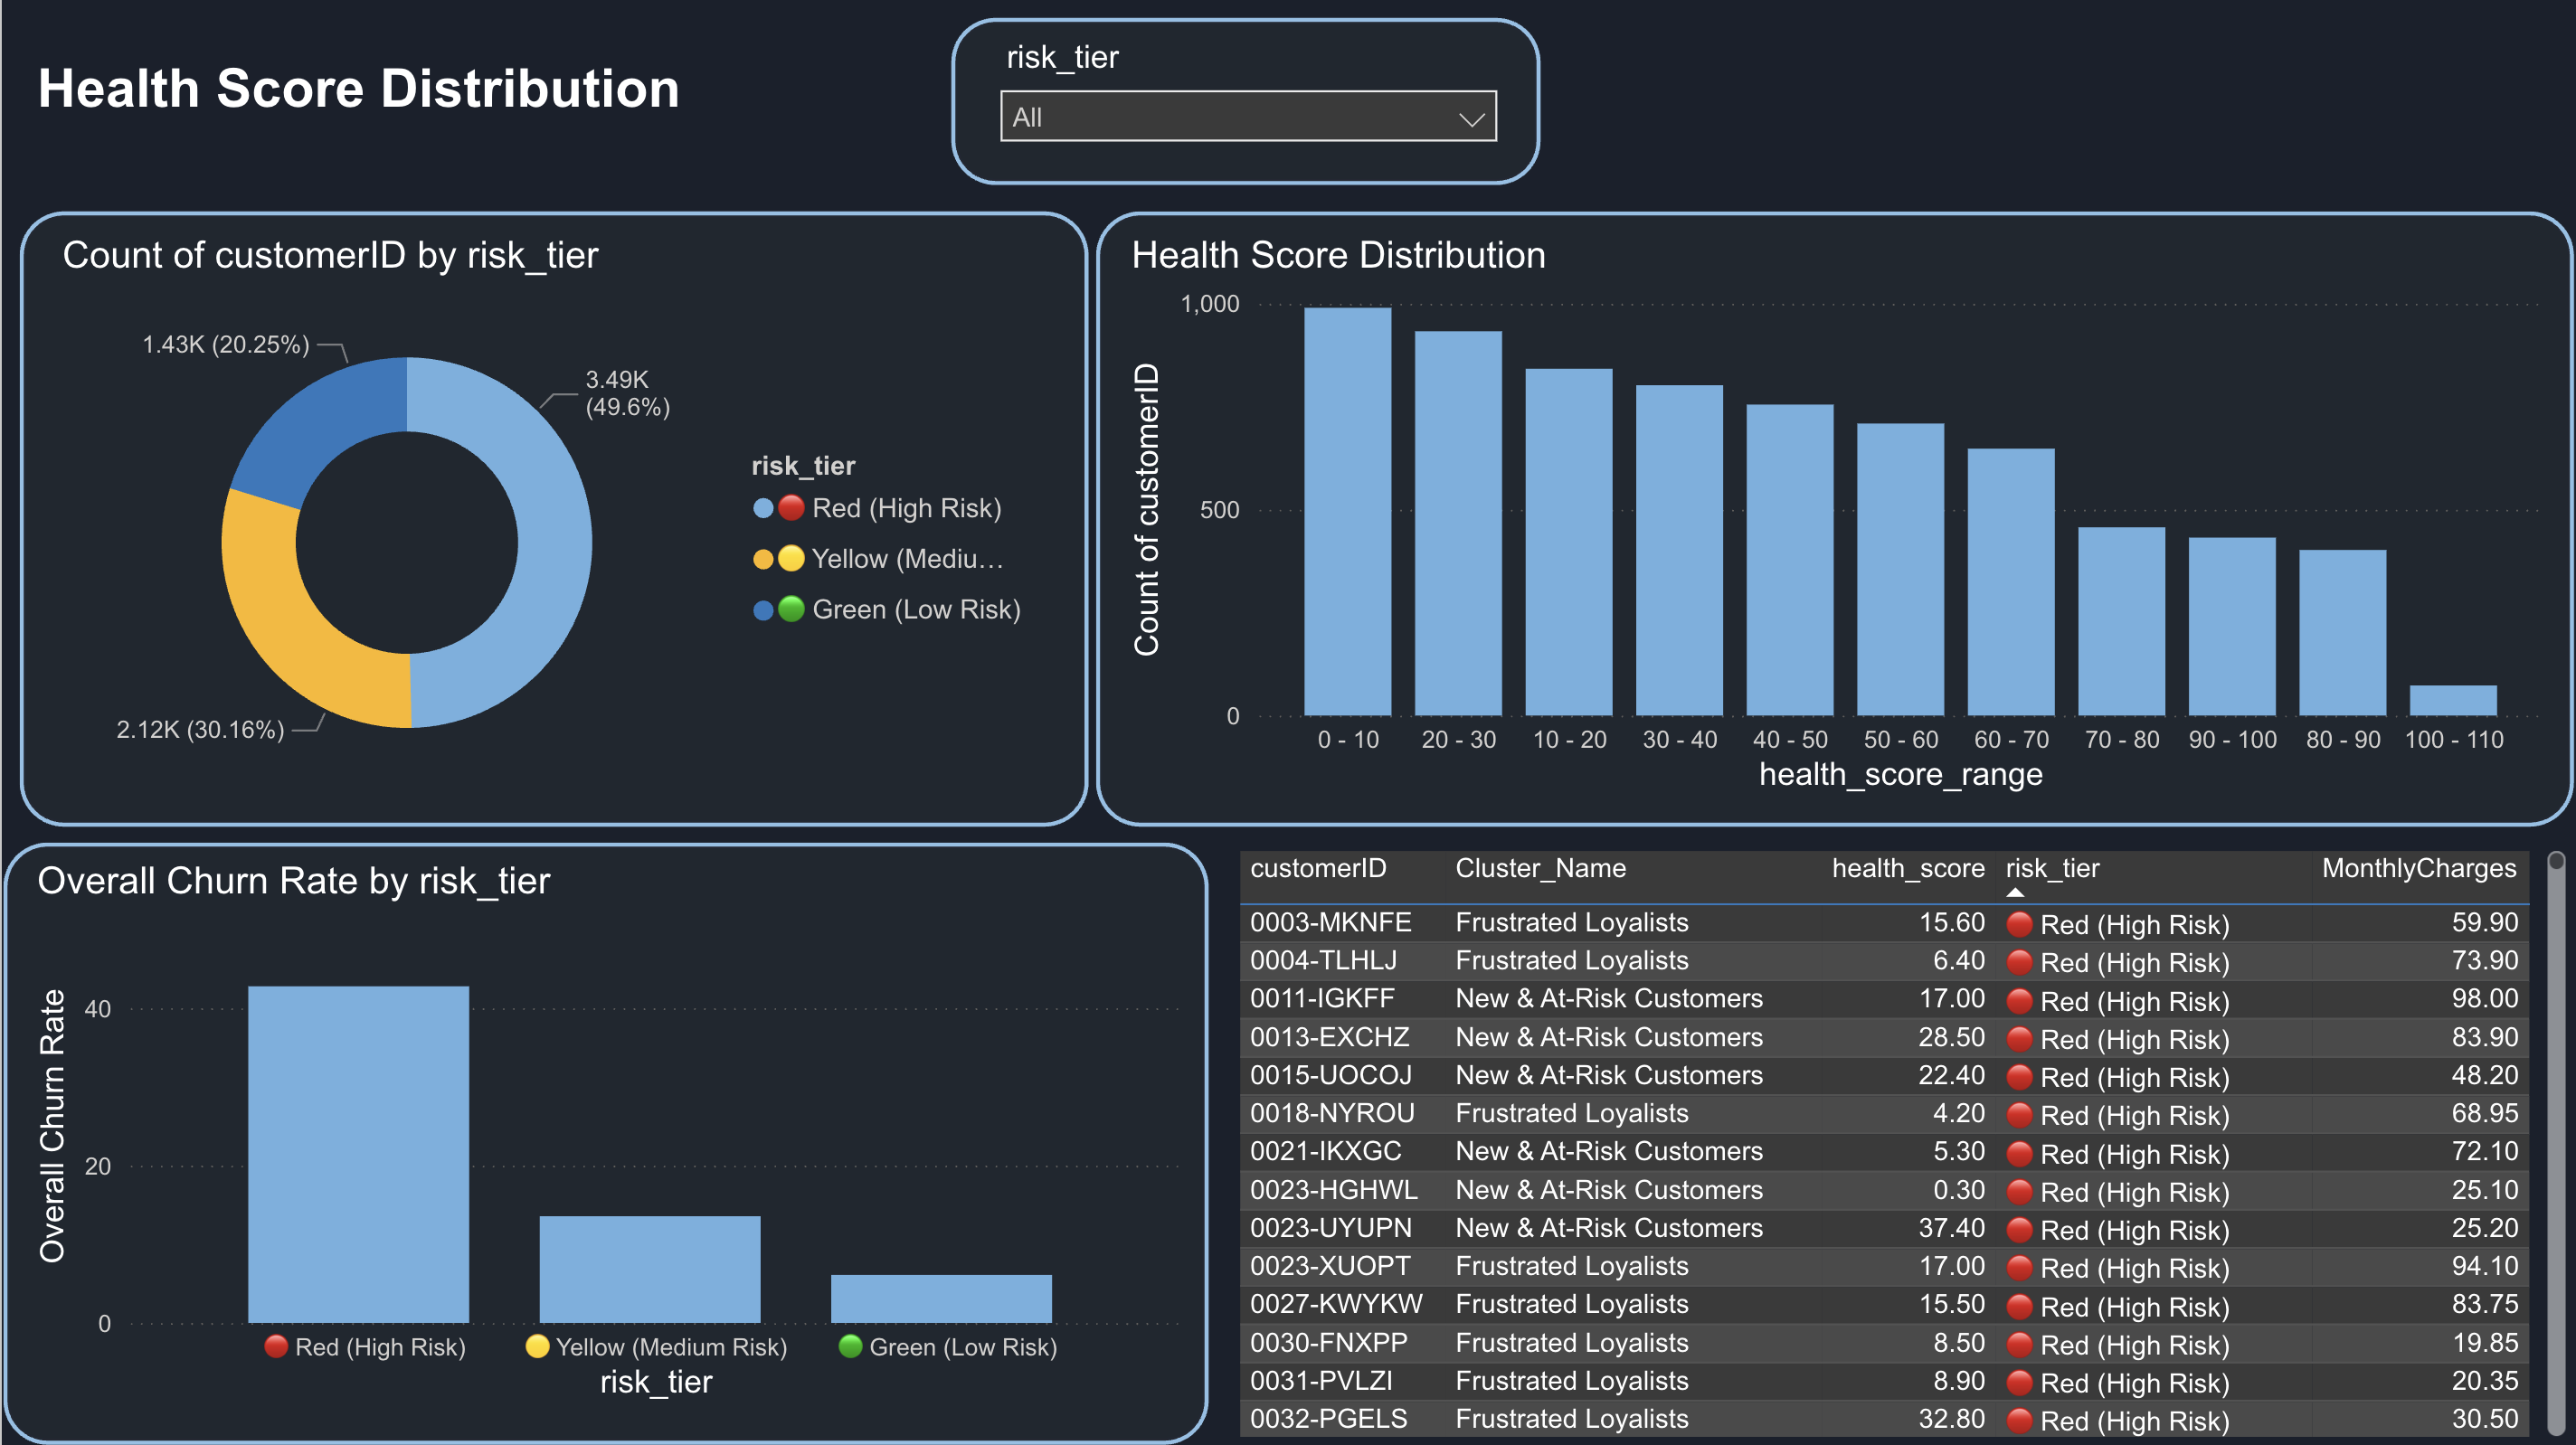

Layout of this report page (visuals, bound fields, positions):
{"tool":"powerbi","page":{"name":"Health Score Distribution","canvas":[1280,720],"ordinal":2},"visuals":[{"type":"shape","box":[0,418.4,600.9,301.1],"z":0},{"type":"shape","box":[471,7.8,294.6,84.7],"z":1000},{"type":"slicer","fields":{"Values":["telco_churn_final.risk_tier"]},"box":[486.6,14.3,267.2,73],"z":2000},{"type":"shape","box":[543.5,104.3,736.5,307.6],"z":3000},{"type":"clusteredColumnChart","title":"Health Score Distribution","fields":{"Category":["telco_churn_final.health_score_range"],"Y":["CountNonNull(telco_churn_final.customerID)"]},"box":[556.6,116,711.7,282.9],"z":4000},{"type":"shape","box":[7.8,104.3,533.1,307.6],"z":5000},{"type":"donutChart","fields":{"Category":["telco_churn_final.risk_tier"],"Y":["CountNonNull(telco_churn_final.customerID)"]},"box":[24.8,116,500.5,286.8],"z":6000},{"type":"clusteredColumnChart","fields":{"Category":["telco_churn_final.risk_tier"],"Y":["telco_churn_final.Overall Churn Rate"]},"box":[13,427.5,578.7,273.7],"z":7000},{"type":"tableEx","fields":{"Values":["telco_churn_final.customerID","telco_churn_final.Cluster_Name","telco_churn_final.health_score","telco_churn_final.risk_tier","telco_churn_final.MonthlyCharges"]},"box":[610,418.4,670,301.1],"z":8000},{"type":"textbox","box":[13,23.5,345.4,50.8],"z":9000}]}

Visuals, with their boxes in screenshot pixels (x1, y1, x2, y2), scaled from the page's 1280x720 canvas onto the 2576x1445 screenshot:
shape: locate(0, 840, 1209, 1444)
shape: locate(948, 15, 1540, 185)
slicer - telco_churn_final.risk_tier: locate(980, 29, 1517, 175)
shape: locate(1094, 209, 2575, 826)
"Health Score Distribution" clusteredColumnChart: locate(1120, 232, 2552, 800)
shape: locate(15, 209, 1089, 826)
donutChart - telco_churn_final.risk_tier x CountNonNull(telco_churn_final.customerID): locate(50, 232, 1057, 808)
clusteredColumnChart - telco_churn_final.risk_tier x telco_churn_final.Overall Churn Rate: locate(26, 858, 1191, 1407)
tableEx - telco_churn_final.customerID x telco_churn_final.Cluster_Name: locate(1227, 840, 2575, 1444)
textbox: locate(26, 47, 721, 149)
